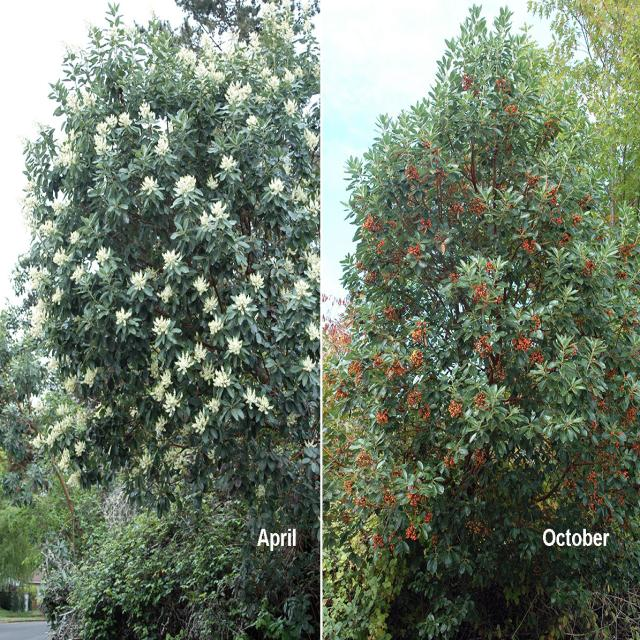Arbutus menziesii: (322, 19, 638, 518), (7, 9, 318, 516)
